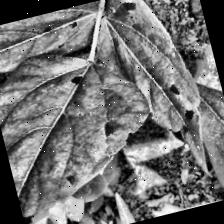ALS: (0, 64, 138, 223), (98, 0, 220, 159), (0, 3, 97, 72)
